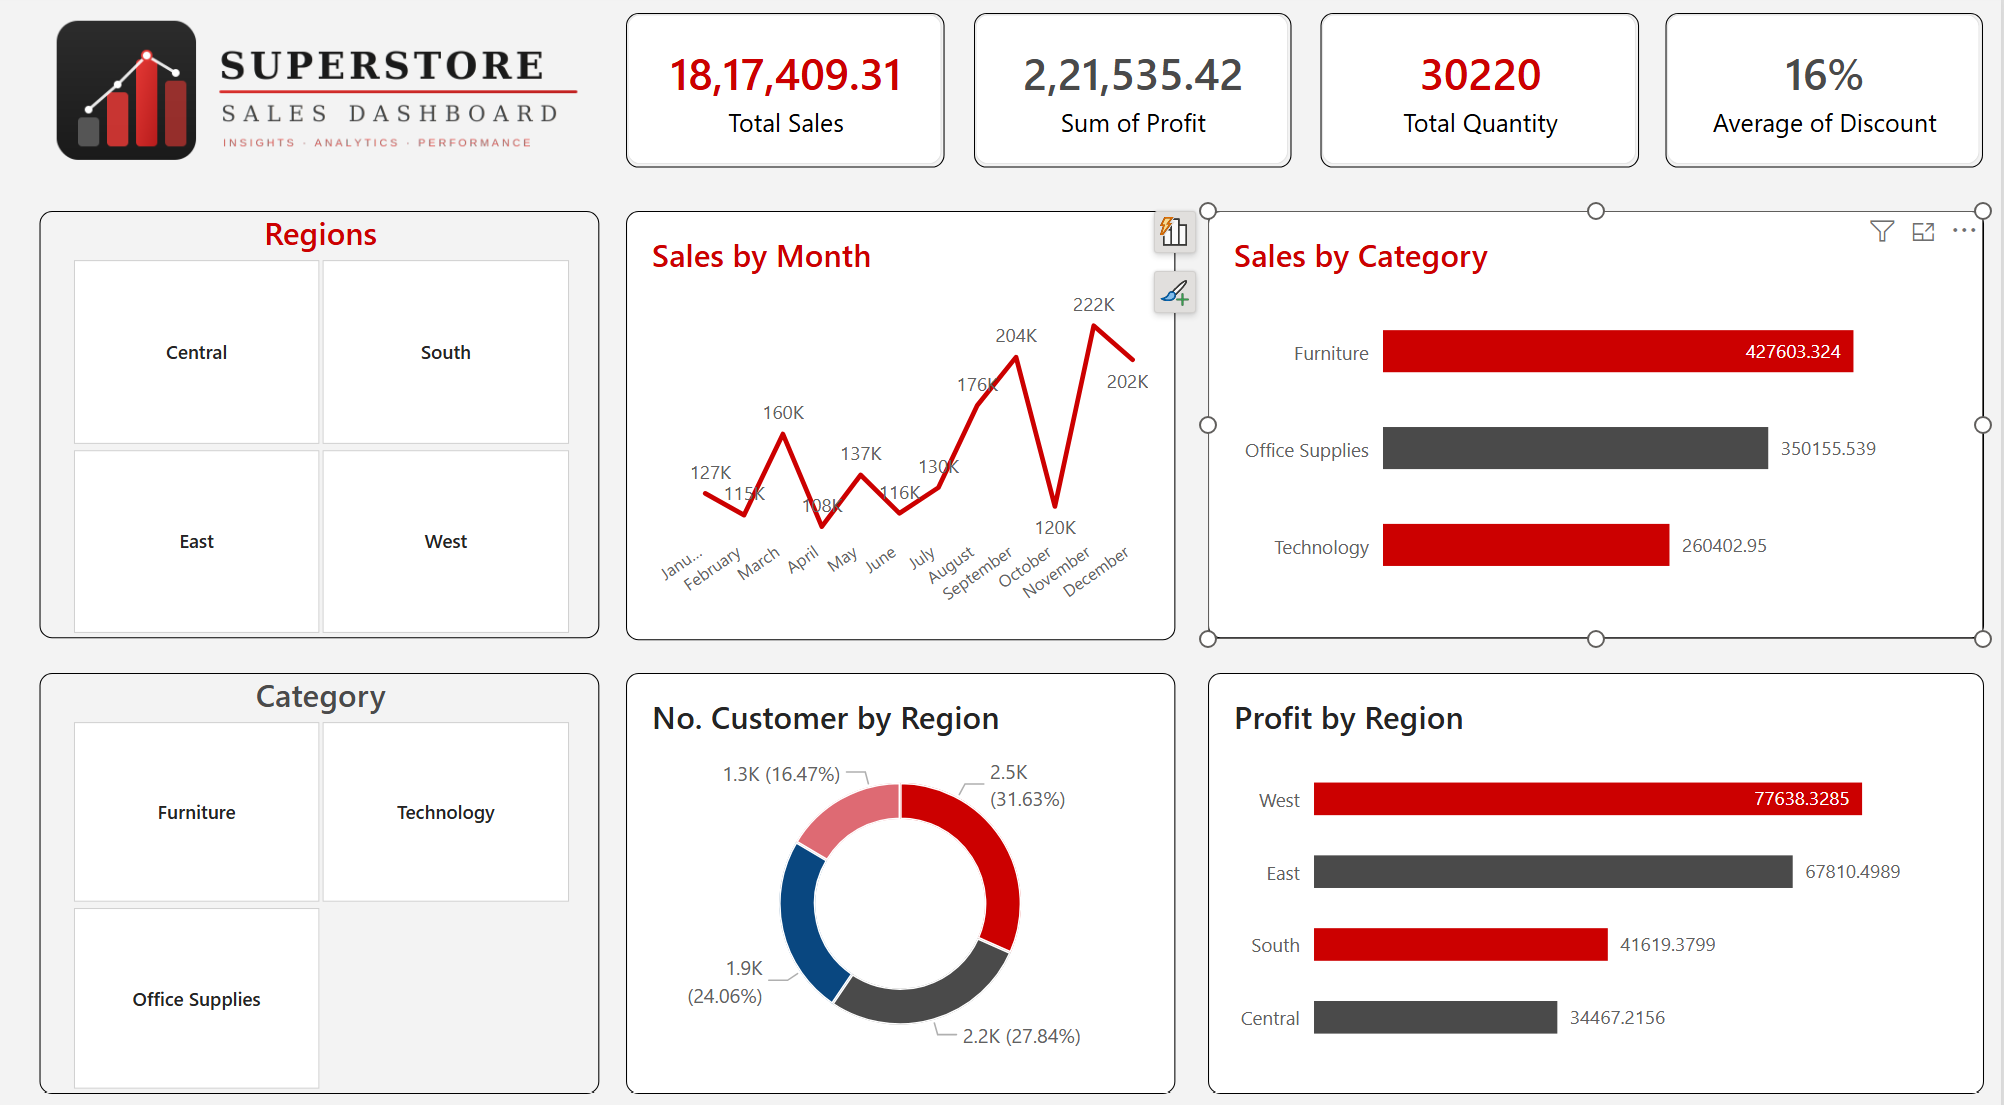

The dashboard page shown, as its layout file describes it:
{"tool":"powerbi","page":{"name":"Page 1","canvas":[1280,720],"ordinal":0},"visuals":[{"type":"cardVisual","fields":{"Data":["Sum(Sample - Superstore.Profit)"]},"box":[624.5,11.6,202.4,98.9],"z":0},{"type":"cardVisual","fields":{"Data":["Sum(Sample - Superstore.Sales)"]},"box":[402.4,11.6,203.5,98.9],"z":1000},{"type":"cardVisual","fields":{"Data":["Avg(Sample - Superstore.Discount)"]},"box":[1065.6,11.5,203,98.6],"z":2000},{"type":"cardVisual","fields":{"Data":["Sum(Sample - Superstore.Quantity)"]},"box":[845.5,11.6,203.5,98.9],"z":3000},{"type":"clusteredBarChart","title":"Sales by Category","fields":{"Category":["Sample - Superstore.Category"],"Y":["Sum(Sample - Superstore.Sales)"]},"box":[773.6,137.7,495.3,272.7],"z":4000},{"type":"clusteredBarChart","title":"Profit by Region","fields":{"Category":["Sample - Superstore.Region"],"Y":["Sum(Sample - Superstore.Profit)"]},"box":[773.6,432.7,495.3,268.5],"z":5000},{"type":"slicer","title":"Regions","fields":{"Values":["Sample - Superstore.Region"]},"box":[28,137.9,357.6,272.7],"z":6000},{"type":"slicer","title":"Category","fields":{"Values":["Sample - Superstore.Category"]},"box":[27.8,432.7,357.6,268.5],"z":7000},{"type":"lineChart","title":"Sales by Month","fields":{"Category":["Sample - Superstore.Order Date_1.Variation.Date Hierarchy.Year","Sample - Superstore.Order Date_1.Variation.Date Hierarchy.Quarter","Sample - Superstore.Order Date_1.Variation.Date Hierarchy.Month","Sample - Superstore.Order Date_1.Variation.Date Hierarchy.Day"],"Y":["Sum(Sample - Superstore.Sales)"]},"box":[402.1,137.7,350.6,274.1],"z":8000},{"type":"donutChart","title":"No. Customer by Region","fields":{"Category":["Sample - Superstore.Region"],"Y":["CountNonNull(Sample - Superstore.Customer ID)"]},"box":[402.1,432.7,350.6,268.5],"z":8001},{"type":"image","box":[27.9,11.6,358.2,98.9],"z":8002}]}

Visuals, with their boxes in screenshot pixels (x1, y1, x2, y2), scaled from the page's 1280x720 canvas onto the 2004x1105 screenshot:
cardVisual - Sum(Sample - Superstore.Profit): x1=978 y1=18 x2=1295 y2=170
cardVisual - Sum(Sample - Superstore.Sales): x1=630 y1=18 x2=949 y2=170
cardVisual - Avg(Sample - Superstore.Discount): x1=1668 y1=18 x2=1986 y2=169
cardVisual - Sum(Sample - Superstore.Quantity): x1=1324 y1=18 x2=1642 y2=170
"Sales by Category" clusteredBarChart: x1=1211 y1=211 x2=1987 y2=630
"Profit by Region" clusteredBarChart: x1=1211 y1=664 x2=1987 y2=1076
"Regions" slicer: x1=44 y1=212 x2=604 y2=630
"Category" slicer: x1=44 y1=664 x2=603 y2=1076
"Sales by Month" lineChart: x1=630 y1=211 x2=1178 y2=632
"No. Customer by Region" donutChart: x1=630 y1=664 x2=1178 y2=1076
image: x1=44 y1=18 x2=604 y2=170
